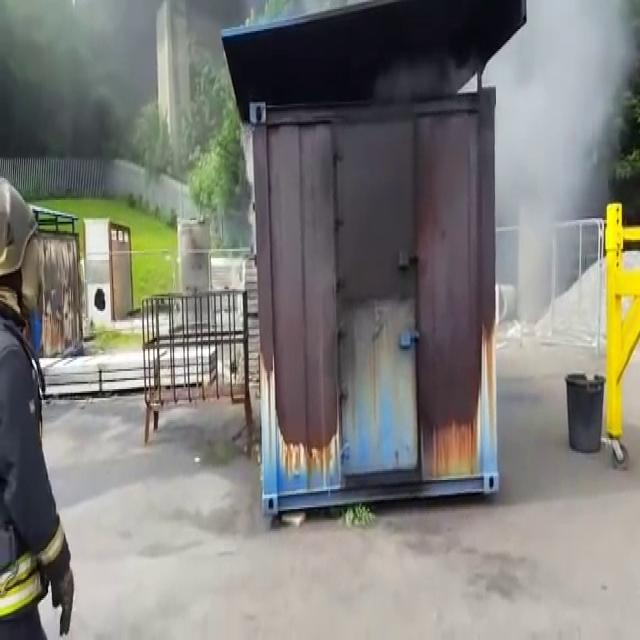Smoke: (513, 0, 617, 216)
